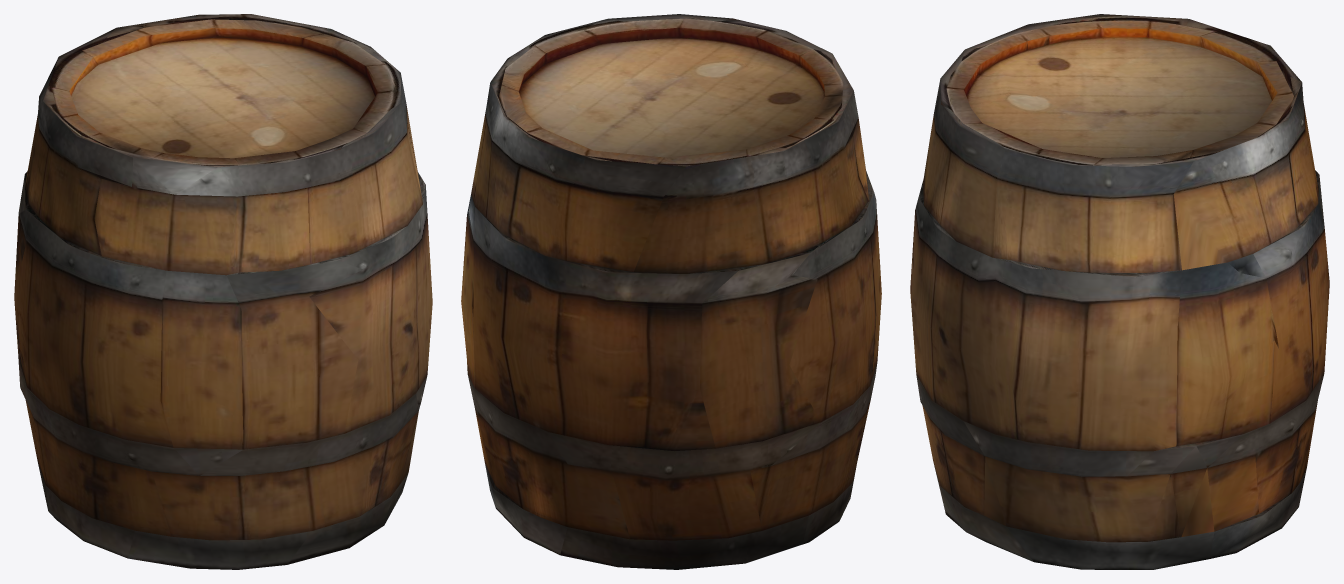
File: barrel.glb
The picture shows the model from 3 angles, left to right: view 1: azimuth 30°, elevation 25°; view 2: azimuth 150°, elevation 25°; view 3: azimuth 270°, elevation 25°; orthographic projection.
Parts seen in each view (by area): view 1: geometry_0; view 2: geometry_0; view 3: geometry_0.
Part boxes in pixels (x1,y1,x2,y2): geometry_0: [14, 14, 432, 569]; geometry_0: [461, 14, 881, 569]; geometry_0: [910, 14, 1329, 569].
Size of the model in its own units: 1.03 by 1.1 by 1.03.
1 material, 1 textured.
